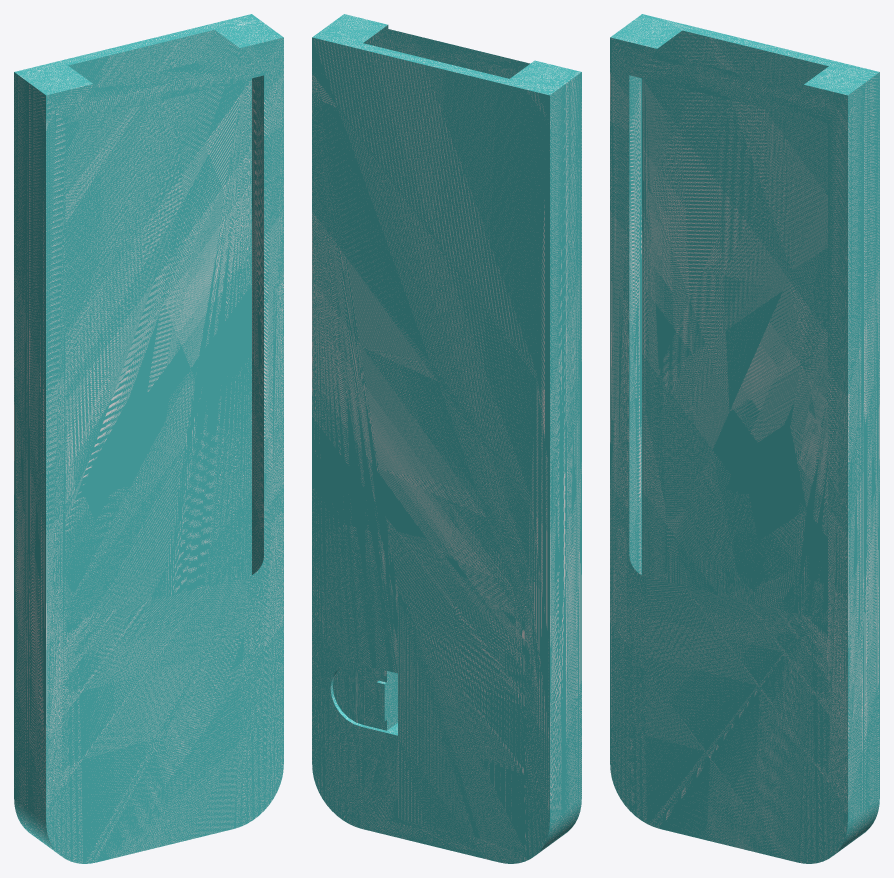
The model's file is original-13.obj.
3 renders of one model, left to right at view 1: azimuth 30°, elevation 25°; view 2: azimuth 150°, elevation 25°; view 3: azimuth 330°, elevation 25°, orthographic.
Visible parts, largest first — view 1: mesh9/mesh9-geometry/material_0/component_0#mesh9-geometry; view 2: mesh9/mesh9-geometry/material_0/component_0#mesh9-geometry; view 3: mesh9/mesh9-geometry/material_0/component_0#mesh9-geometry.
Boxes of the visible parts, left/top/right/bottom form: mesh9/mesh9-geometry/material_0/component_0#mesh9-geometry: left=14, top=14, right=283, bottom=863; mesh9/mesh9-geometry/material_0/component_0#mesh9-geometry: left=312, top=14, right=581, bottom=863; mesh9/mesh9-geometry/material_0/component_0#mesh9-geometry: left=610, top=14, right=879, bottom=863.
Bounding box in the file's own units: 0.6068 × 1.9 × 0.1416.
